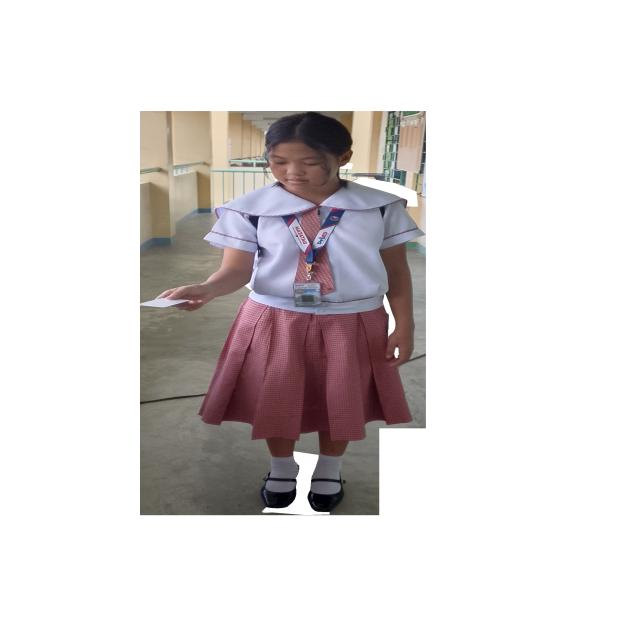id lace: (282, 209, 344, 267)
pologirl: (203, 185, 317, 310), (316, 183, 423, 314), (314, 252, 333, 294), (301, 207, 320, 244), (296, 255, 306, 279)
shoes: (261, 485, 296, 509), (308, 491, 340, 512), (338, 489, 343, 500)
skirt: (199, 298, 411, 441)
